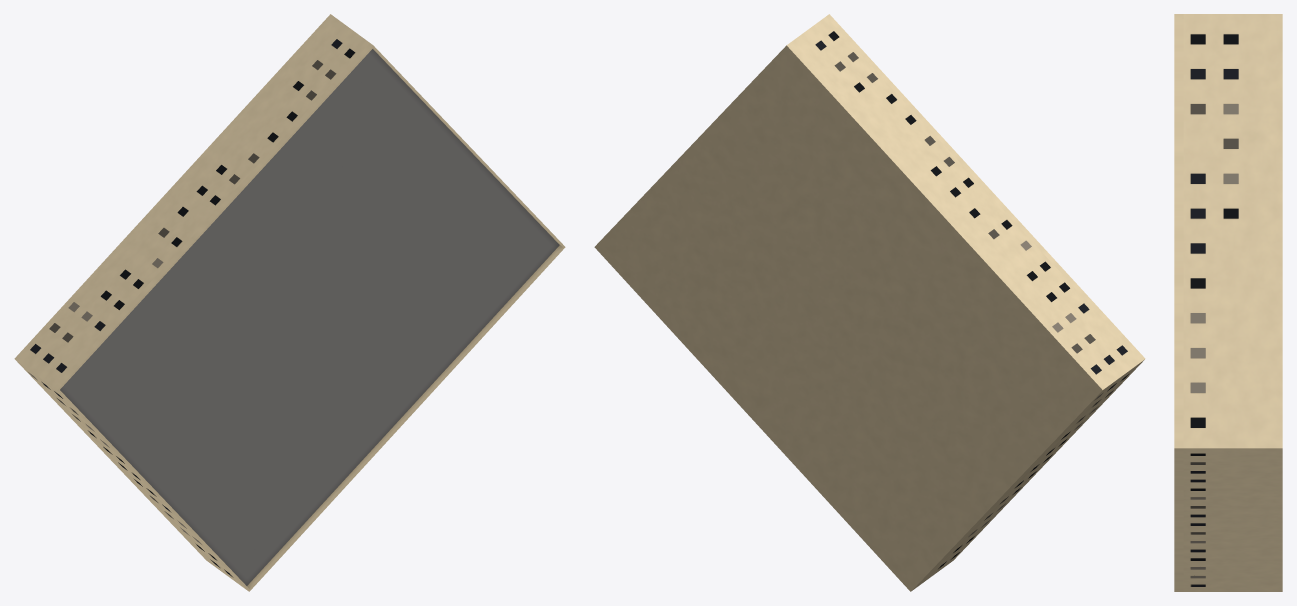
The model's file is house_b0005.obj.
The picture shows the model from 3 angles, left to right: view 1: azimuth 30°, elevation 25°; view 2: azimuth 150°, elevation 25°; view 3: azimuth 270°, elevation 25°; orthographic projection. The views are drawn at different scales.
Parts seen in each view (by area): view 1: house_b0005; view 2: house_b0005; view 3: house_b0005.
Boxes of the visible parts, bbox=[...] form: house_b0005: bbox=[14, 14, 565, 591]; house_b0005: bbox=[594, 14, 1145, 591]; house_b0005: bbox=[1174, 14, 1282, 591].
Bounding box in the file's own units: 67.9 × 65.89 × 9.91.
1 material, 1 textured.
